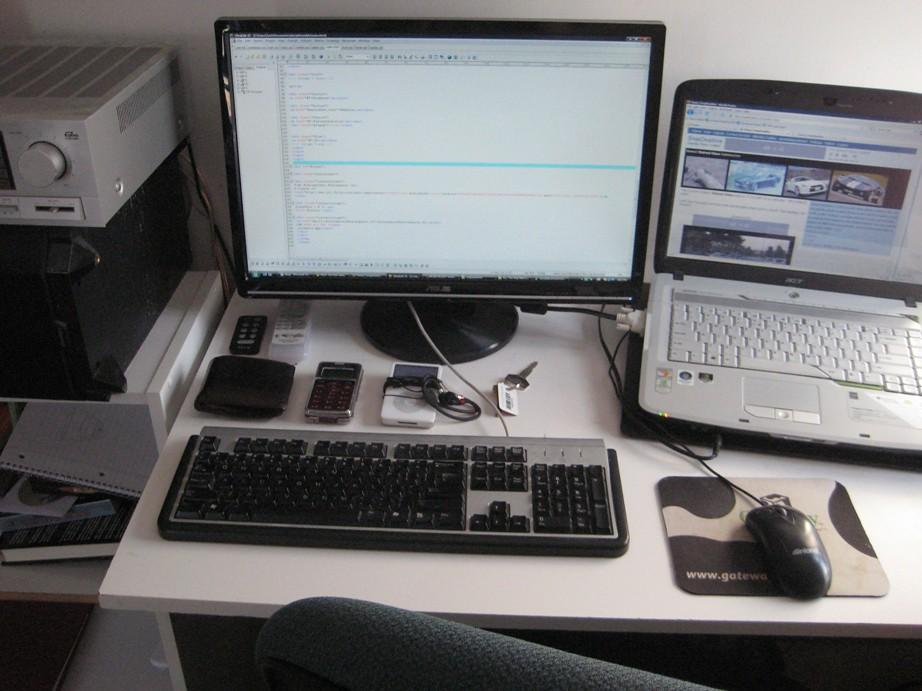computer: (213, 16, 667, 365), (638, 77, 922, 461), (1, 43, 187, 229)
